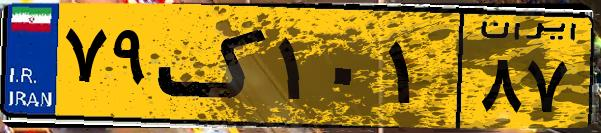0: (330, 28, 385, 110)
1: (270, 28, 330, 110), (385, 28, 445, 110)
7: (57, 26, 110, 100), (525, 38, 570, 115)
8: (475, 38, 525, 113)
9: (110, 28, 158, 98)
ک: (158, 12, 270, 120)
